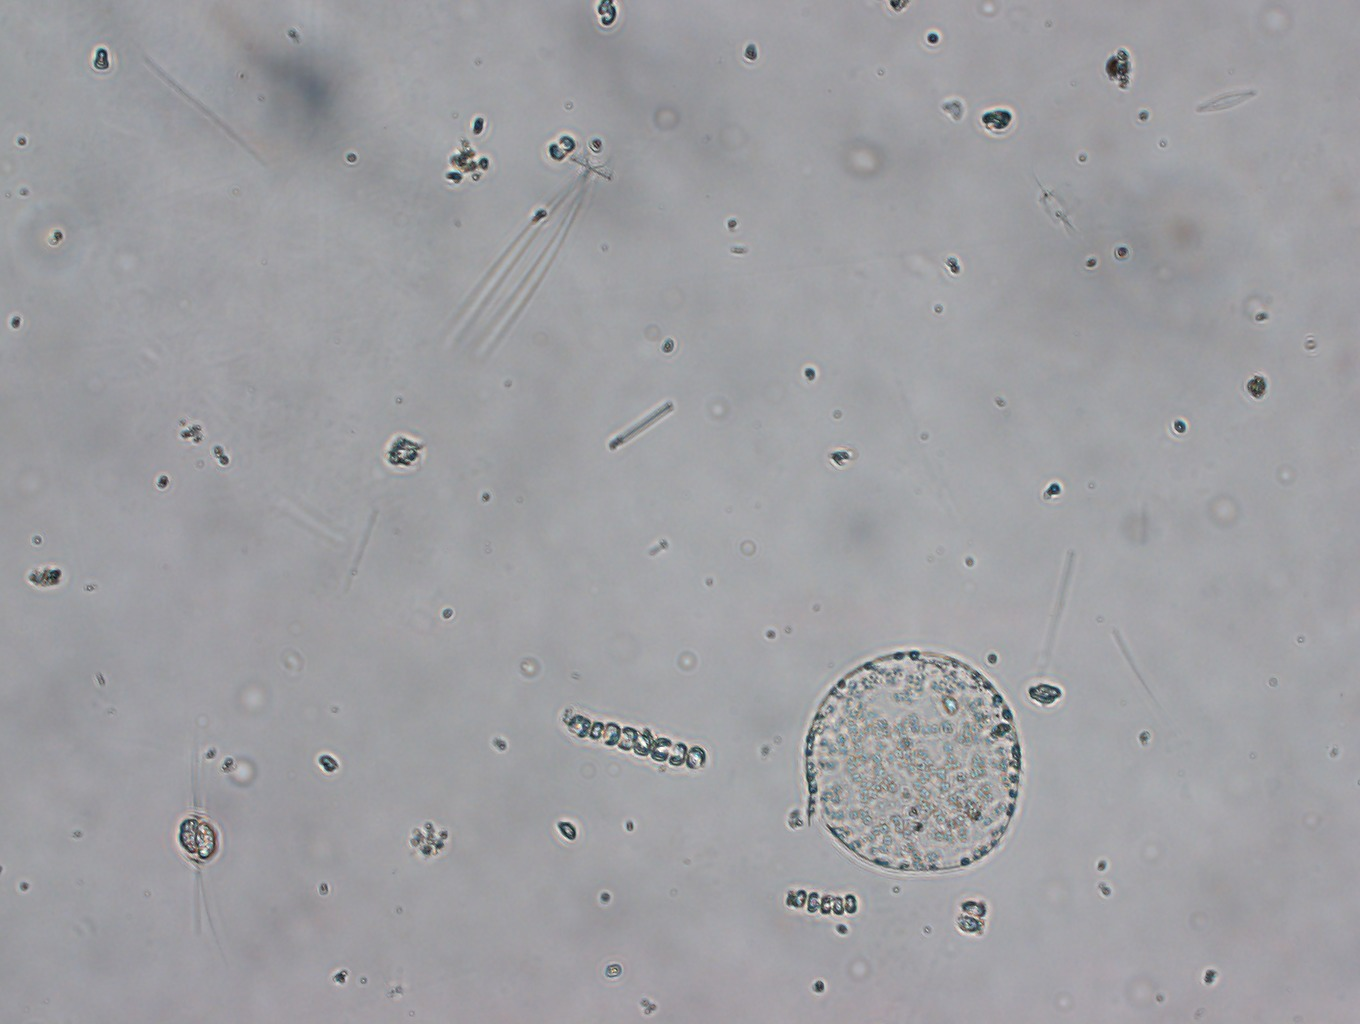coscinodiscus: (794, 646, 1034, 880)
